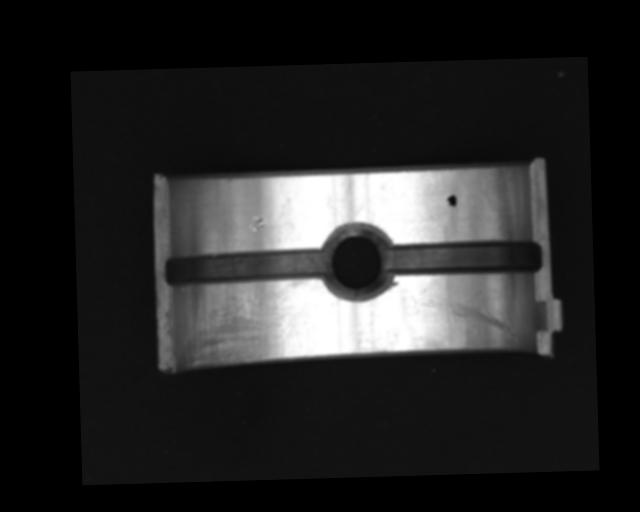blot: (446, 193, 457, 209)
bruise: (248, 214, 266, 233)
gap: (161, 247, 329, 289), (385, 239, 543, 277)
hole: (319, 224, 397, 300)
nick: (413, 287, 519, 346)
scratch: (180, 279, 306, 369)
